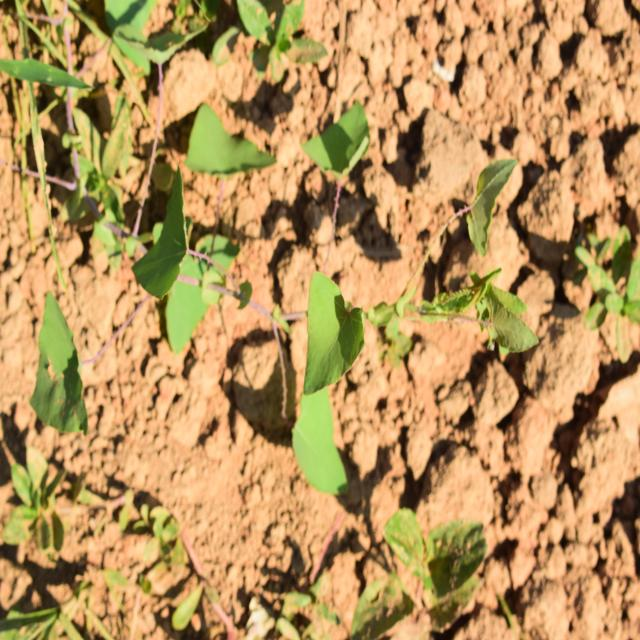Asiatic_Smartweed: (294, 90, 400, 491), (145, 100, 271, 348)
